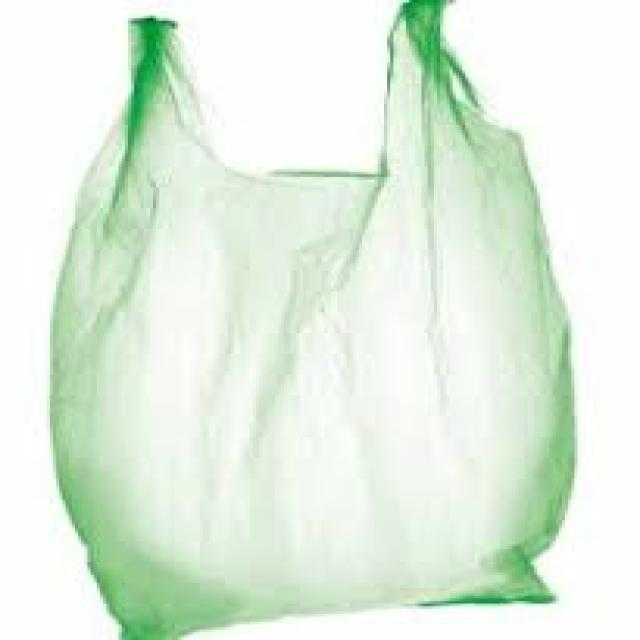plastic: (46, 0, 574, 637)
